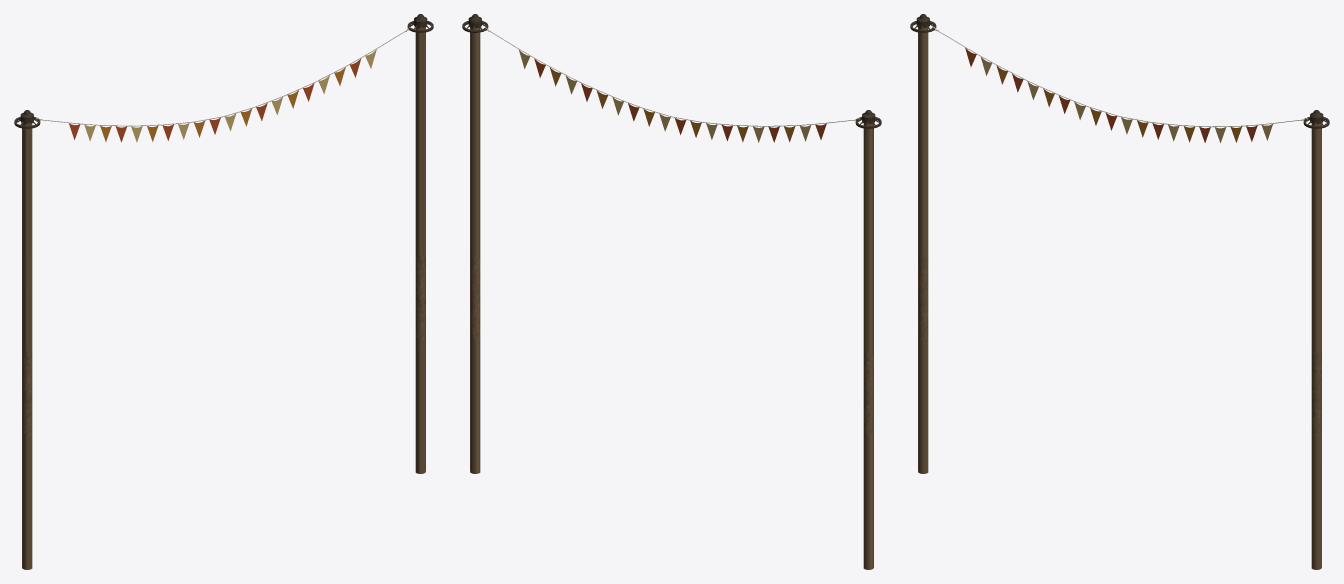
File: objects_a_w09_colorfulflag01.gltf
3 views of the same model, side by side, from view 1: azimuth 30°, elevation 25°; view 2: azimuth 150°, elevation 25°; view 3: azimuth 330°, elevation 25° (orthographic).
Parts seen in each view (by area): view 1: um_objects_a_w09_colorfulflag01_model_lod1Shape:objects_un_t, um_objects_a_w09_colorfulflag01_model_lod0Shape:objects_un_t, nomerge_objects_a_w09_colorfulflag01_mesh_01_shape:objects_u; view 2: um_objects_a_w09_colorfulflag01_model_lod0Shape:objects_un_t, nomerge_objects_a_w09_colorfulflag01_mesh_01_shape:objects_u, um_objects_a_w09_colorfulflag01_model_lod1Shape:objects_un_t; view 3: um_objects_a_w09_colorfulflag01_model_lod1Shape:objects_un_t, um_objects_a_w09_colorfulflag01_model_lod0Shape:objects_un_t, nomerge_objects_a_w09_colorfulflag01_mesh_01_shape:objects_u.
Boxes of the visible parts, left/top/right/bottom form: um_objects_a_w09_colorfulflag01_model_lod1Shape:objects_un_t: left=15, top=17, right=433, bottom=569; um_objects_a_w09_colorfulflag01_model_lod0Shape:objects_un_t: left=14, top=14, right=432, bottom=569; nomerge_objects_a_w09_colorfulflag01_mesh_01_shape:objects_u: left=41, top=30, right=406, bottom=142; um_objects_a_w09_colorfulflag01_model_lod0Shape:objects_un_t: left=462, top=14, right=881, bottom=569; nomerge_objects_a_w09_colorfulflag01_mesh_01_shape:objects_u: left=489, top=31, right=852, bottom=142; um_objects_a_w09_colorfulflag01_model_lod1Shape:objects_un_t: left=462, top=16, right=881, bottom=470; um_objects_a_w09_colorfulflag01_model_lod1Shape:objects_un_t: left=910, top=17, right=1329, bottom=568; um_objects_a_w09_colorfulflag01_model_lod0Shape:objects_un_t: left=911, top=14, right=1329, bottom=569; nomerge_objects_a_w09_colorfulflag01_mesh_01_shape:objects_u: left=937, top=30, right=1302, bottom=142.
Size of what is drawn, in the model's own units: 14.85 by 15.6 by 0.8121.
2 materials, 2 textured.
